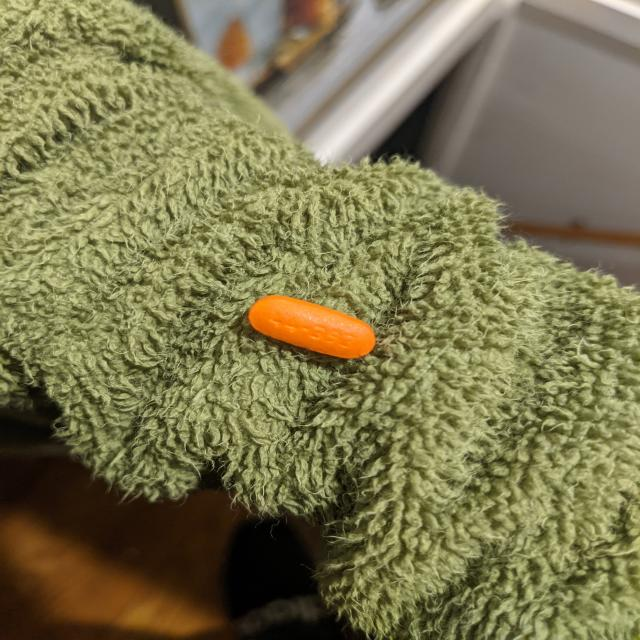non-organic waste: (247, 294, 377, 361)
